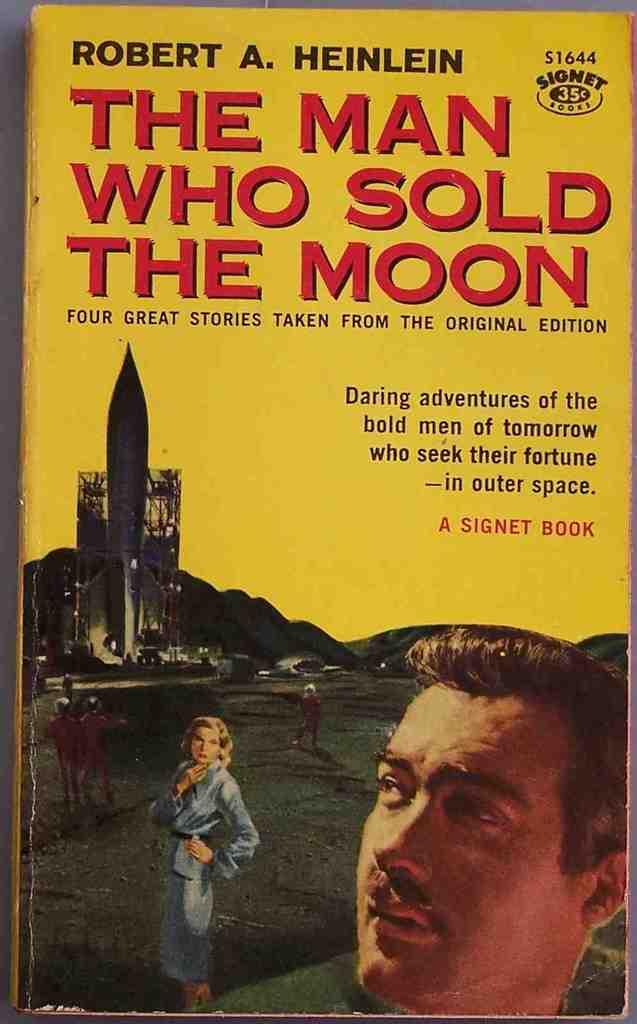Missile: (103, 339, 151, 660)
